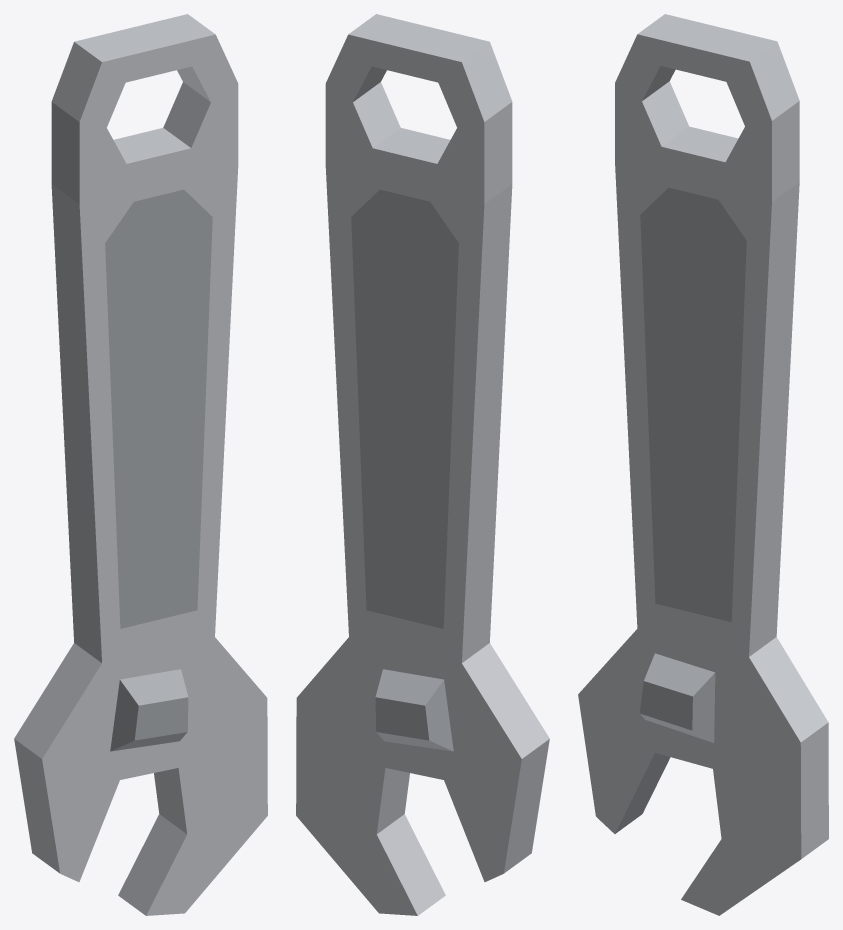
The model's file is SM_Item_Spanner_01.fbx.
3 renders of one model, left to right at view 1: azimuth 30°, elevation 25°; view 2: azimuth 150°, elevation 25°; view 3: azimuth 330°, elevation 25°, orthographic.
Visible parts, largest first — view 1: SM_Item_Spanner_01; view 2: SM_Item_Spanner_01; view 3: SM_Item_Spanner_01.
Part boxes in pixels (x1,y1,x2,y2): SM_Item_Spanner_01: [14, 14, 267, 915]; SM_Item_Spanner_01: [296, 14, 549, 915]; SM_Item_Spanner_01: [578, 14, 828, 915].
Bounding box in the file's own units: 11.7 × 43.14 × 5.22.
